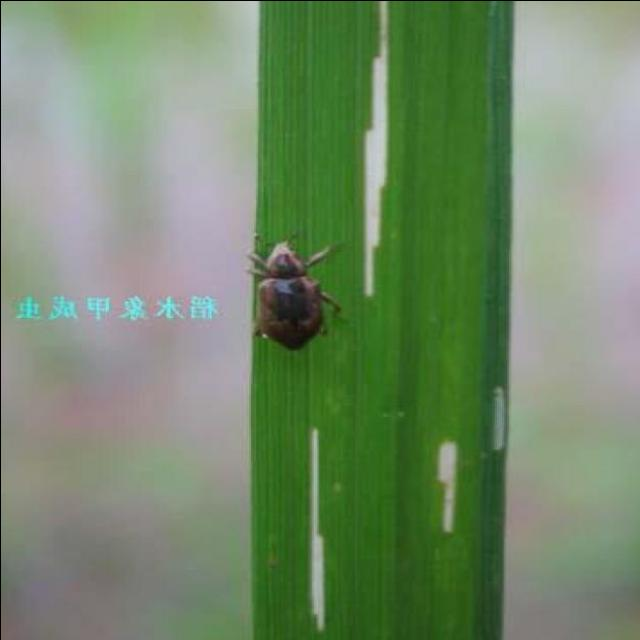ricebug: (249, 241, 341, 349)
